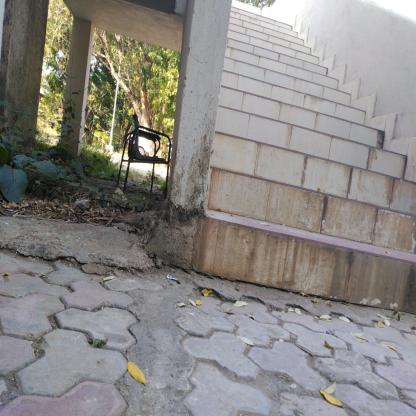stairs: (230, 23, 295, 312)
